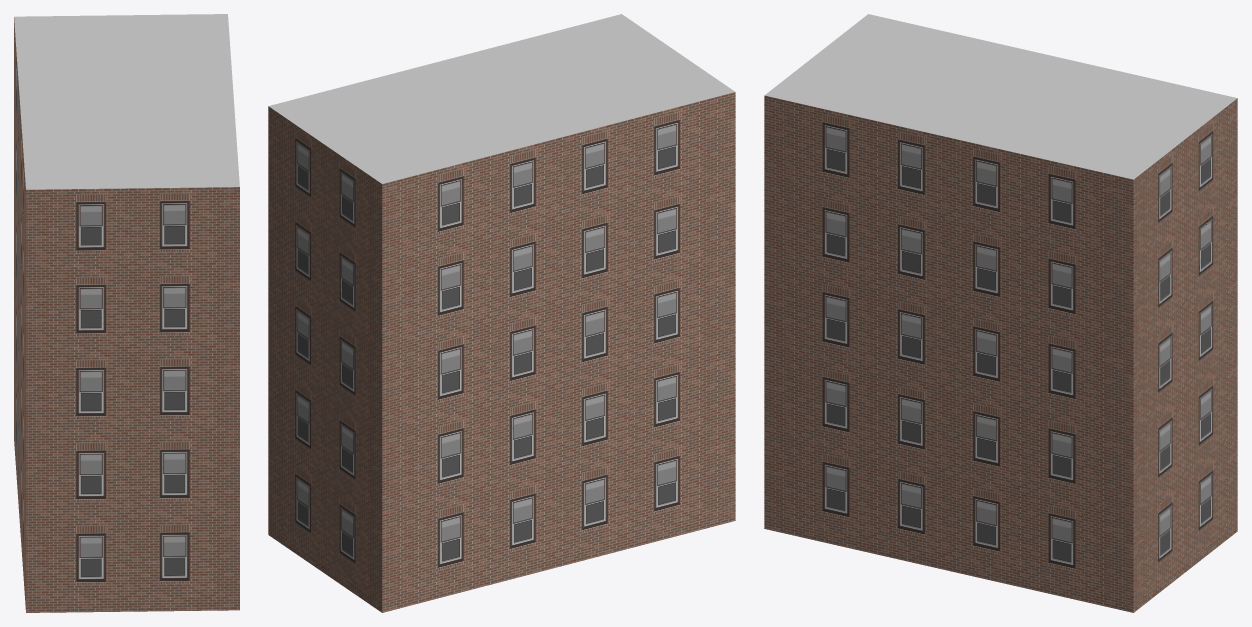
Rendered from building-0-0-417.dae.
3 renders of one model, left to right at view 1: azimuth 30°, elevation 25°; view 2: azimuth 150°, elevation 25°; view 3: azimuth 270°, elevation 25°, orthographic. The views are drawn at different scales.
Visible parts, largest first — view 1: geopipeinodehc_aKZhw (×3); view 2: geopipeinodehc_aKZhw (×3); view 3: geopipeinodehc_aKZhw (×3).
Boxes of the visible parts, left/top/right/bottom form: geopipeinodehc_aKZhw (×3): left=14, top=14, right=239, bottom=612; geopipeinodehc_aKZhw (×3): left=268, top=14, right=735, bottom=612; geopipeinodehc_aKZhw (×3): left=764, top=14, right=1237, bottom=612.
Bounding box in the file's own units: 13.69 × 16.53 × 16.7.
